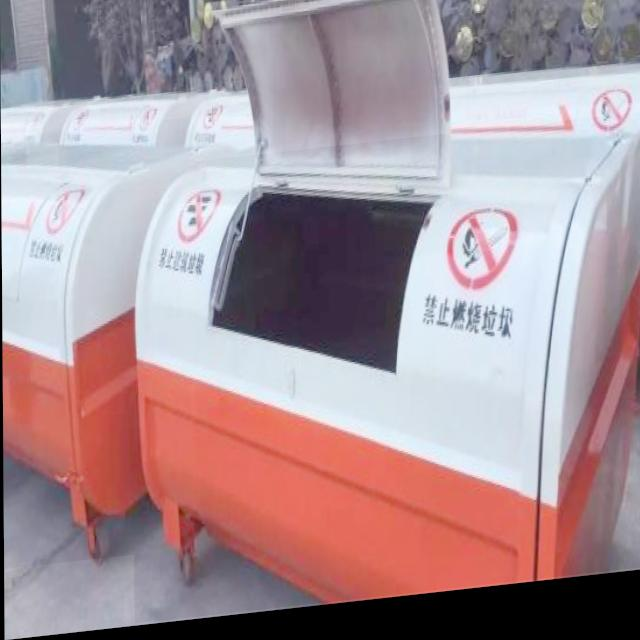garbage_bin: (131, 127, 640, 626), (1, 121, 195, 569)
